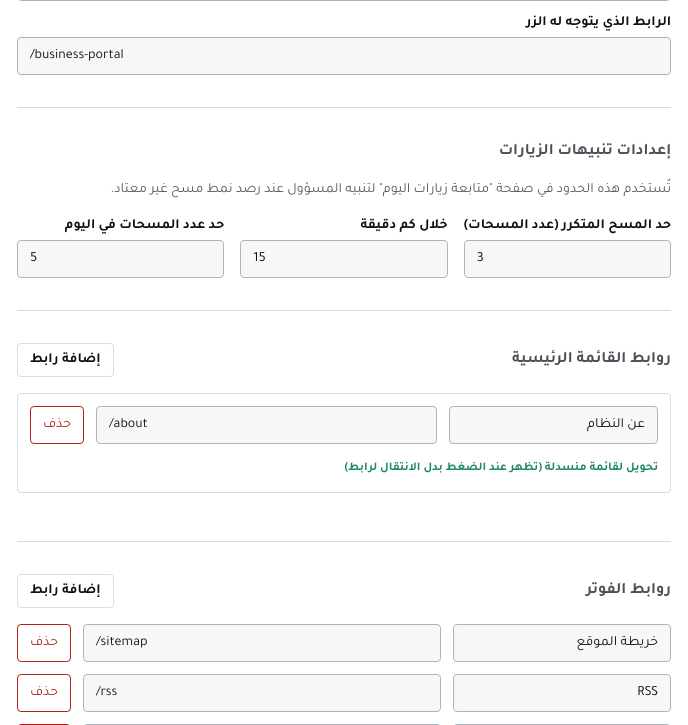
SettingsPage › adds a new empty nav link row
The width and height of the screenshot is (688, 725).
(page scrolled)
Expected: the 4th field showing "عن النظام" is shown, [449,406,658,444]
Click the button "إضافة رابط" in the row of "روابط القائمة الرئيسية" at [65, 360], box [17,343,114,377]
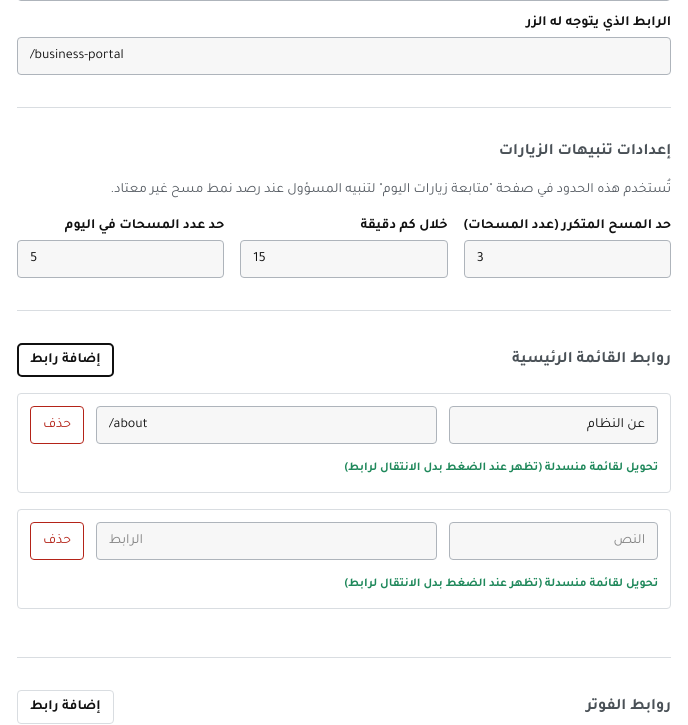
Expected: the number of fields with placeholder "النص" is 6
